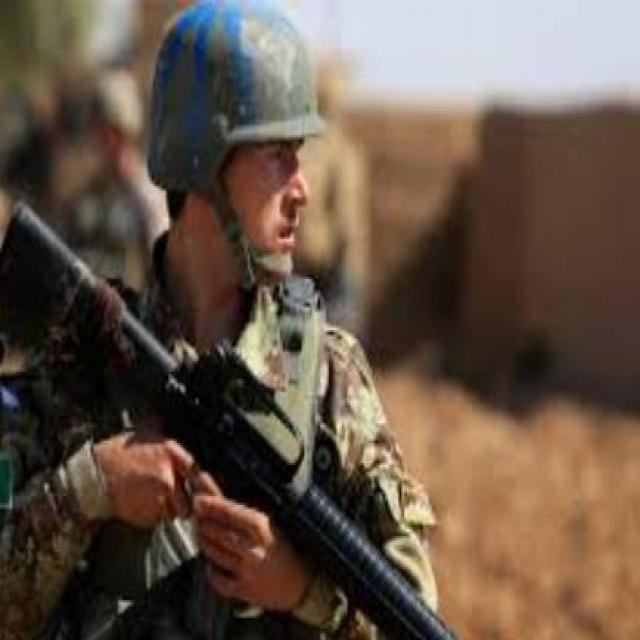m16: (0, 158, 502, 640)
